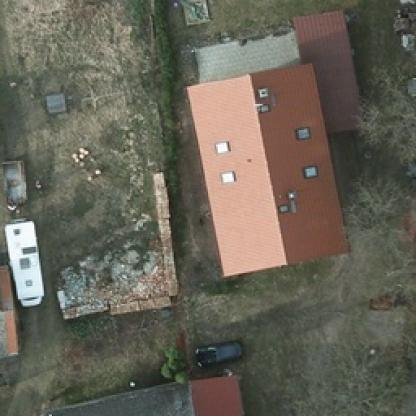car: (194, 338, 242, 366)
